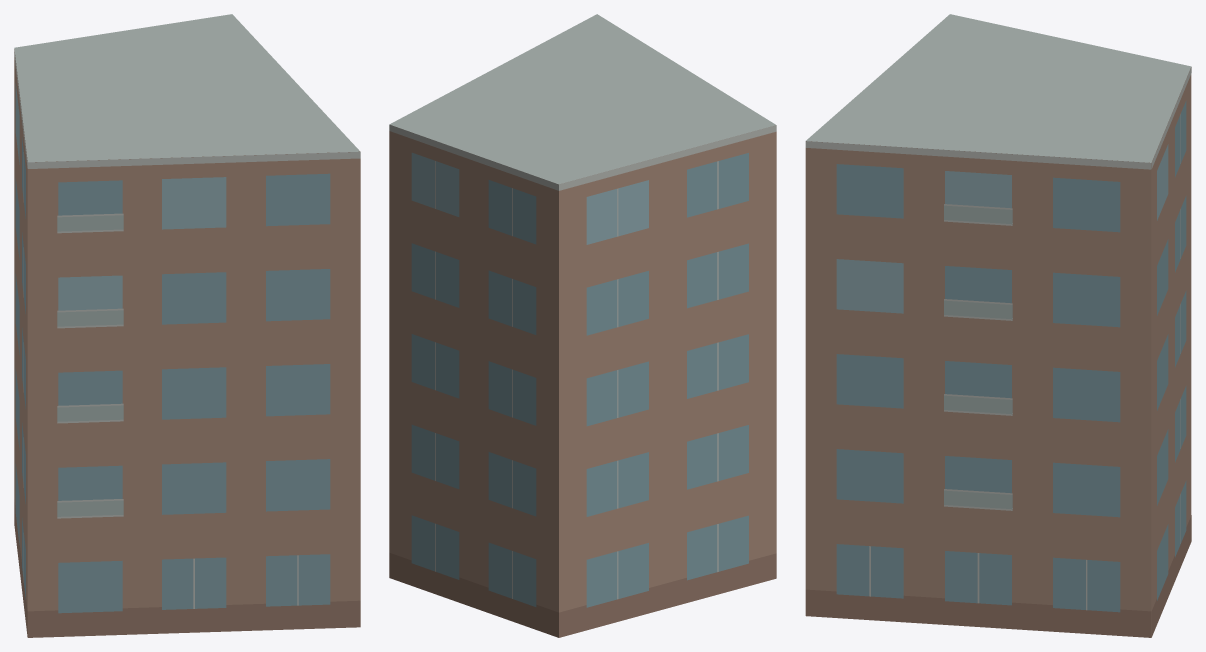
The model's file is survey-upis-32784305.glb.
3 renders of one model, left to right at view 1: azimuth 30°, elevation 25°; view 2: azimuth 150°, elevation 25°; view 3: azimuth 270°, elevation 25°, orthographic. The views are drawn at different scales.
Parts seen in each view (by area): view 1: survey-upis-32784305.tmp; view 2: survey-upis-32784305.tmp; view 3: survey-upis-32784305.tmp.
Part boxes in pixels (box(x1,y1,x2,y2)): survey-upis-32784305.tmp: box(14, 14, 360, 637); survey-upis-32784305.tmp: box(389, 14, 776, 637); survey-upis-32784305.tmp: box(805, 14, 1191, 637).
Size of the model in its own units: 11.5 by 17.1 by 12.6.
